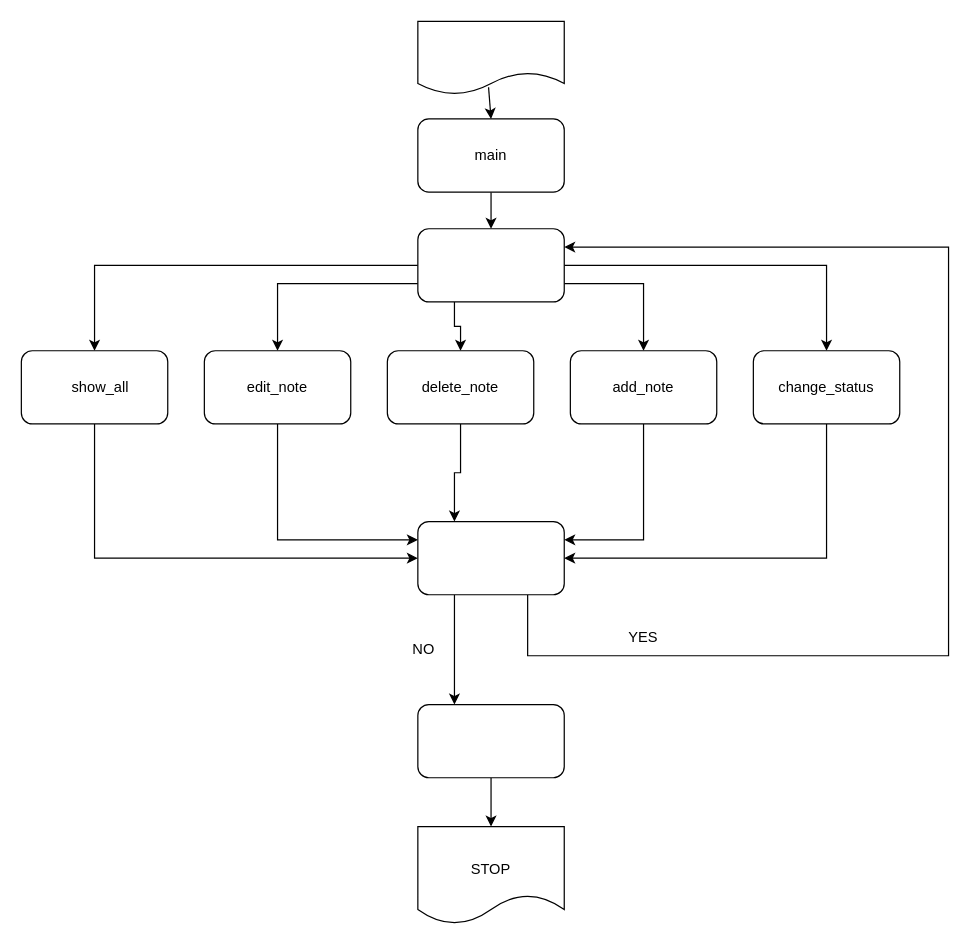
This 980x946 diagram has some shape labels left out. The shapes that lost their labels are listed below. From the top down, each one's centre as x and y in pixels, then its label:
pixel 490 57: START
pixel 490 265: menu/interface
pixel 490 557: another_action
pixel 490 740: Exit
